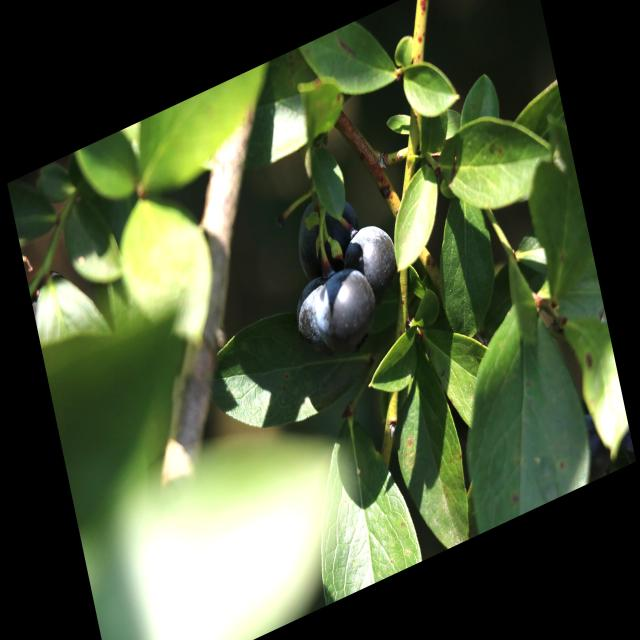blueberry: (300, 250, 387, 370), (283, 172, 368, 290), (330, 206, 410, 327), (286, 266, 345, 369)
